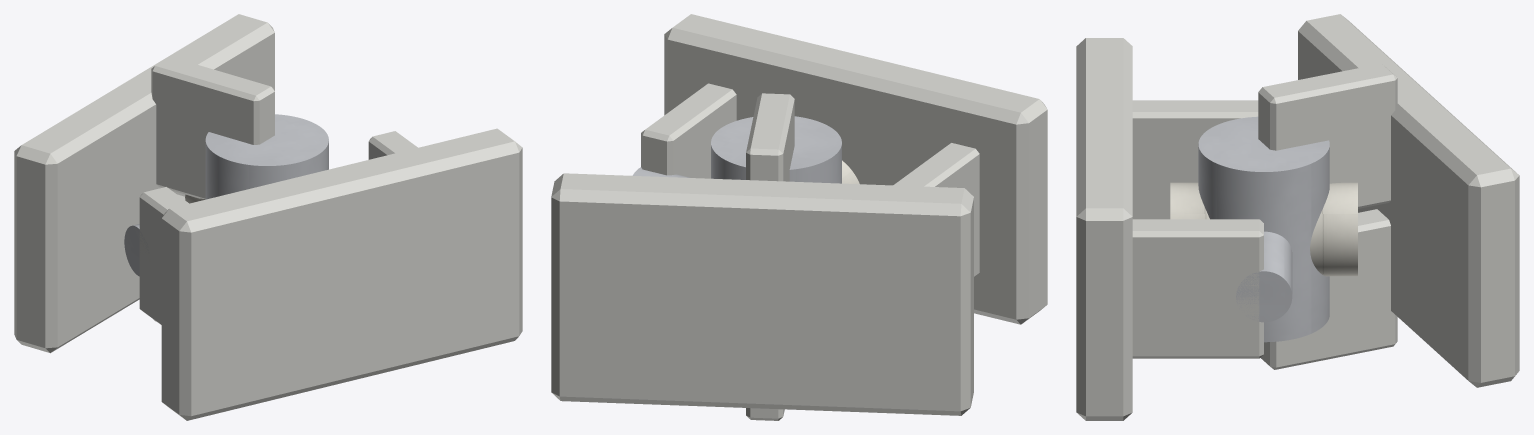
The model's file is ax_rover_16_articulation_joint_yaw_left.glb.
The picture shows the model from 3 angles, left to right: view 1: azimuth 30°, elevation 25°; view 2: azimuth 150°, elevation 25°; view 3: azimuth 270°, elevation 25°; orthographic projection. The views are drawn at different scales.
Parts seen in each view (by area): view 1: front_clevis, rear_clevis, gimbal_block; view 2: rear_clevis, front_clevis, gimbal_block; view 3: rear_clevis, front_clevis, gimbal_block, cable_boot.
Part boxes in pixels (box(x1,y1,x2,y2)): front_clevis: box(139, 128, 522, 420); rear_clevis: box(14, 14, 274, 353); gimbal_block: box(124, 114, 328, 276); rear_clevis: box(551, 93, 973, 420); front_clevis: box(641, 14, 1047, 324); gimbal_block: box(632, 116, 841, 183); rear_clevis: box(1258, 14, 1519, 387); front_clevis: box(1076, 38, 1263, 420); gimbal_block: box(1198, 116, 1329, 342); cable_boot: box(1170, 182, 1357, 276).
Bounding box in the file's own units: 1.02 × 0.64 × 0.9442.
3 materials, 2 textured.
